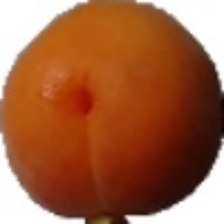apricot: (50, 10, 204, 210)
